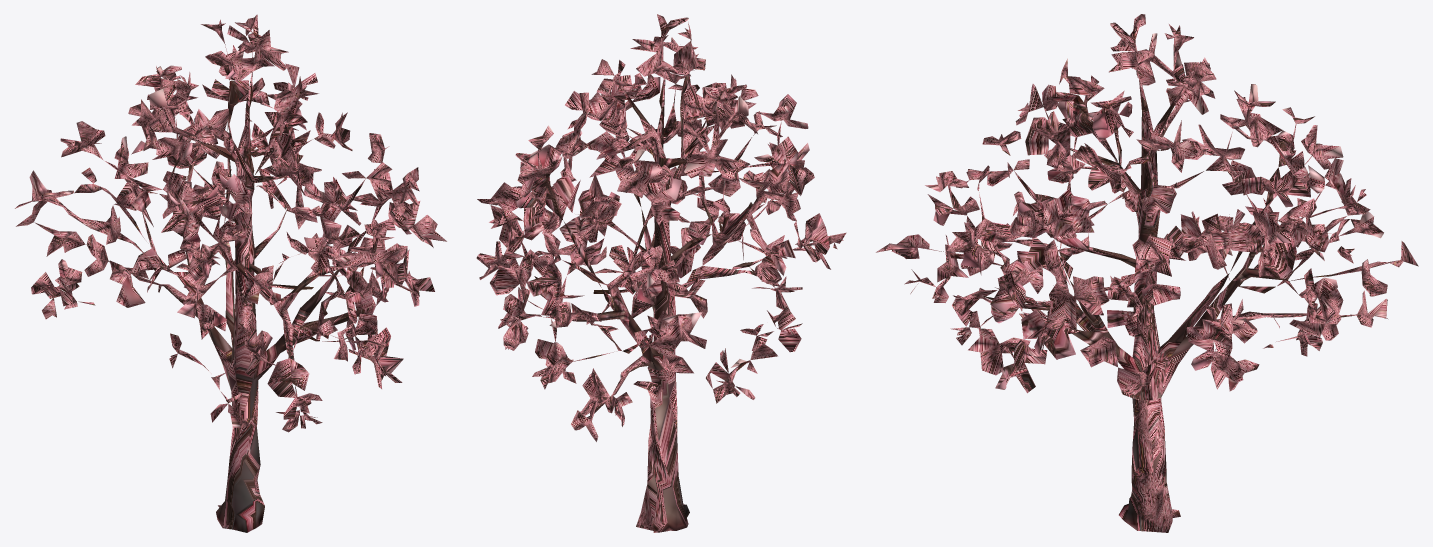
Rendered from peach2-low.glb.
3 renders of one model, left to right at view 1: azimuth 30°, elevation 25°; view 2: azimuth 150°, elevation 25°; view 3: azimuth 270°, elevation 25°, orthographic.
Bounding box in the file's own units: 0.6188 × 0.9977 × 0.9641.
1 material, 1 textured.
